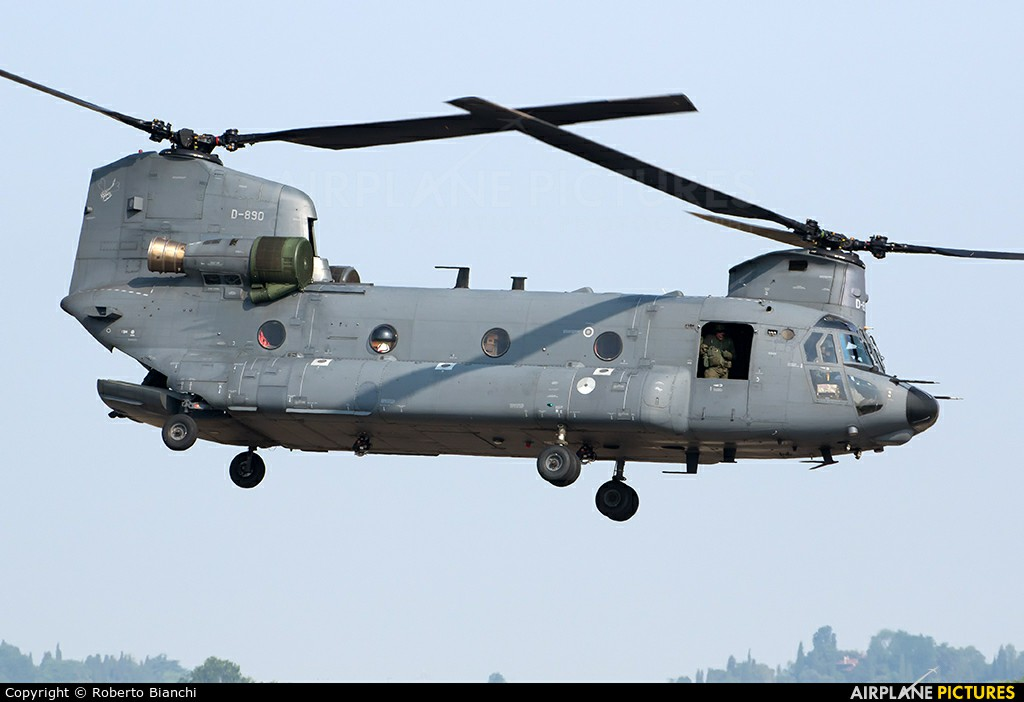chinook: (15, 96, 1010, 526)
